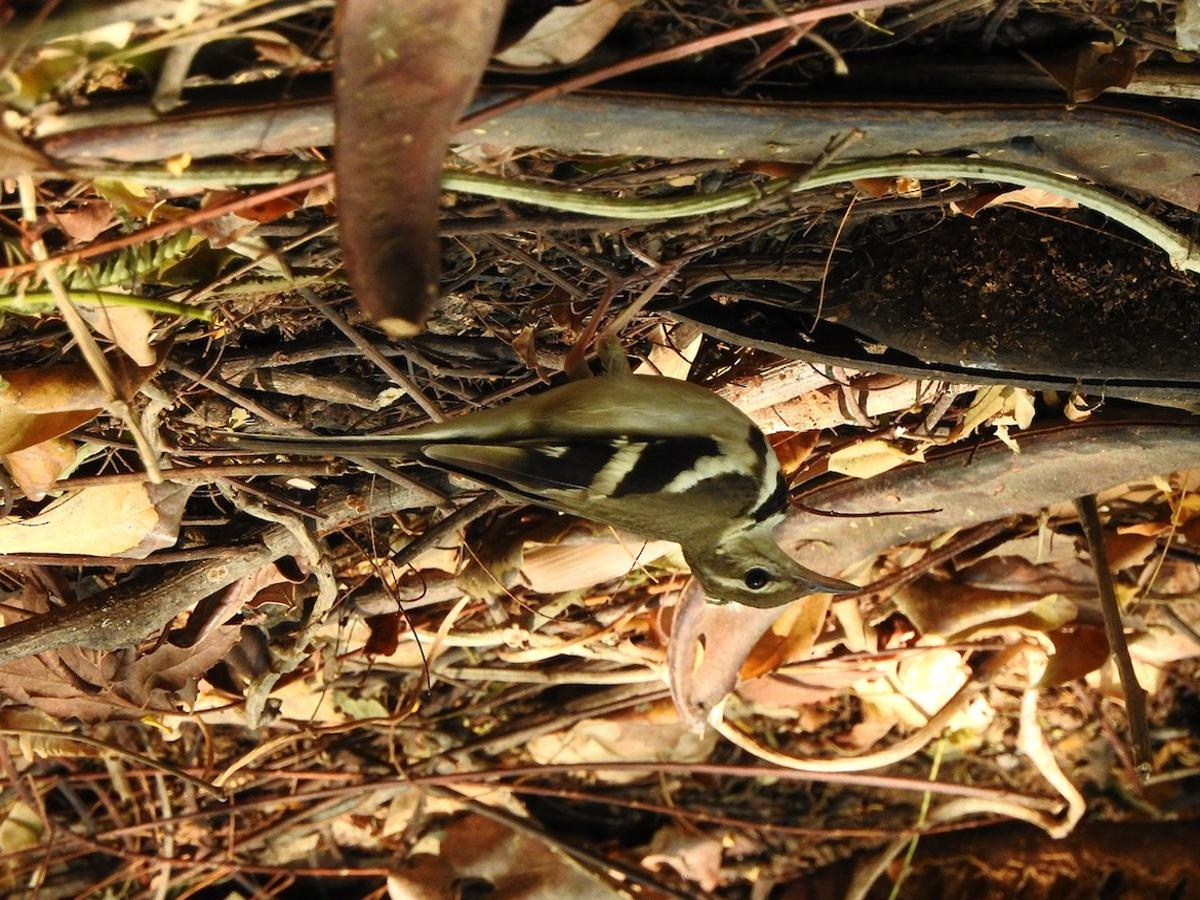wagtail: (358, 351, 860, 615)
